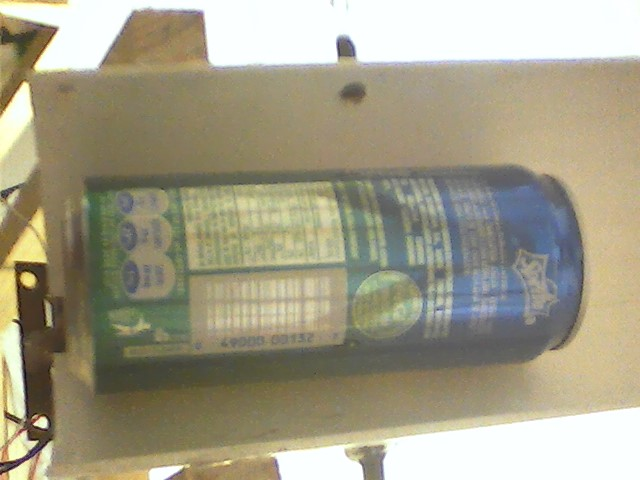lata: (49, 164, 598, 393)
